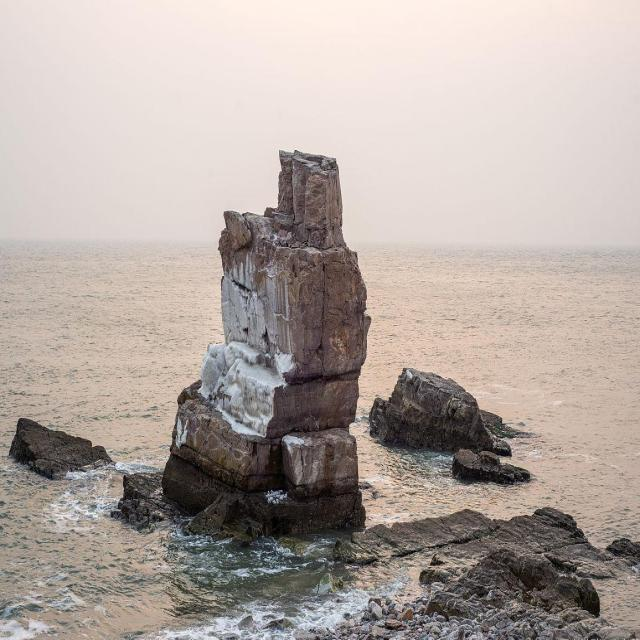reef: (110, 136, 521, 553)
